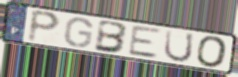B: (93, 19, 130, 55)
E: (127, 25, 164, 60)
G: (62, 17, 95, 49)
O: (196, 35, 229, 69)
P: (26, 8, 63, 44)
U: (162, 29, 196, 64)
